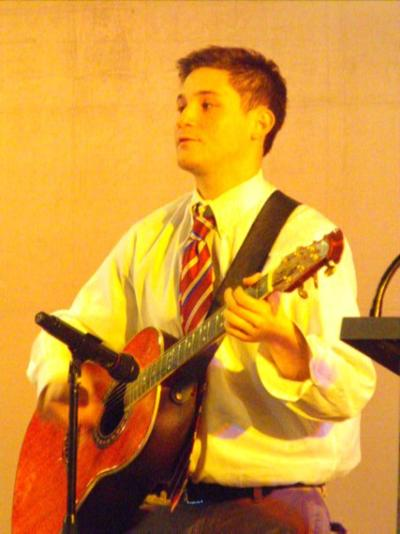person: (27, 48, 375, 532)
